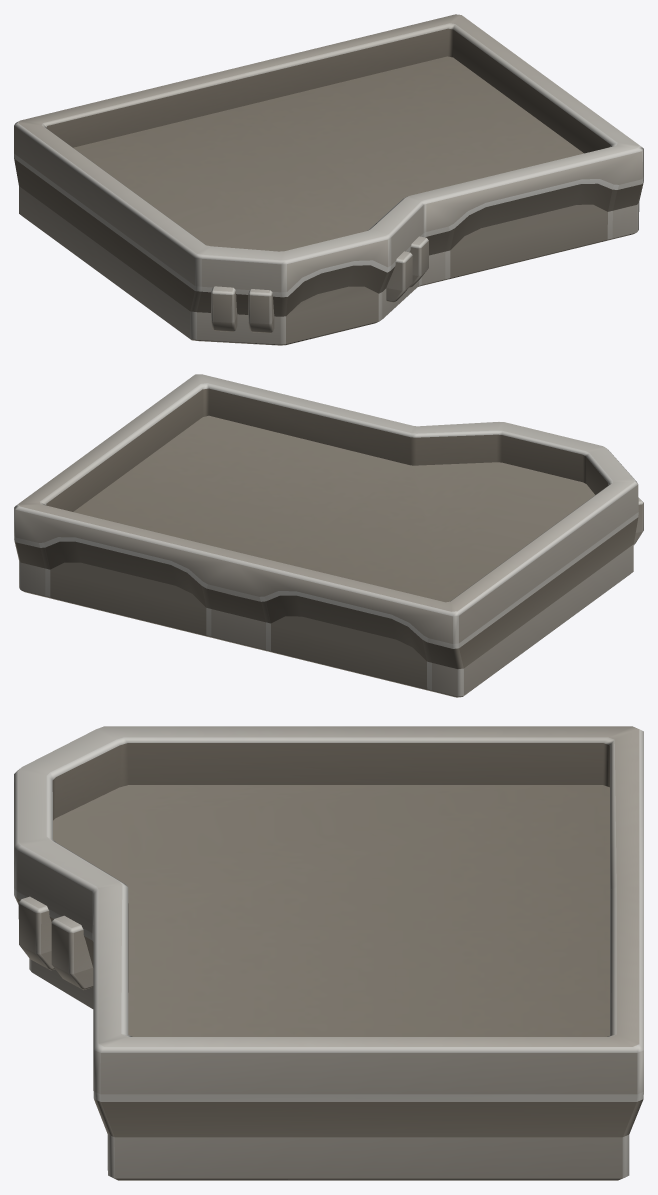
File: appartment_type2_roof_type1.fbx
The picture shows the model from 3 angles, top to bottom: view 1: azimuth 30°, elevation 25°; view 2: azimuth 150°, elevation 25°; view 3: azimuth 270°, elevation 25°; orthographic projection. The views are drawn at different scales.
Visible parts, largest first — view 1: appartment_type2_roof_type1; view 2: appartment_type2_roof_type1; view 3: appartment_type2_roof_type1.
Boxes of the visible parts, x1,y1,x2,y2 form: appartment_type2_roof_type1: [14, 14, 643, 345]; appartment_type2_roof_type1: [14, 374, 643, 697]; appartment_type2_roof_type1: [14, 726, 643, 1180].
Bounding box in the file's own units: 1210 × 232 × 992.
